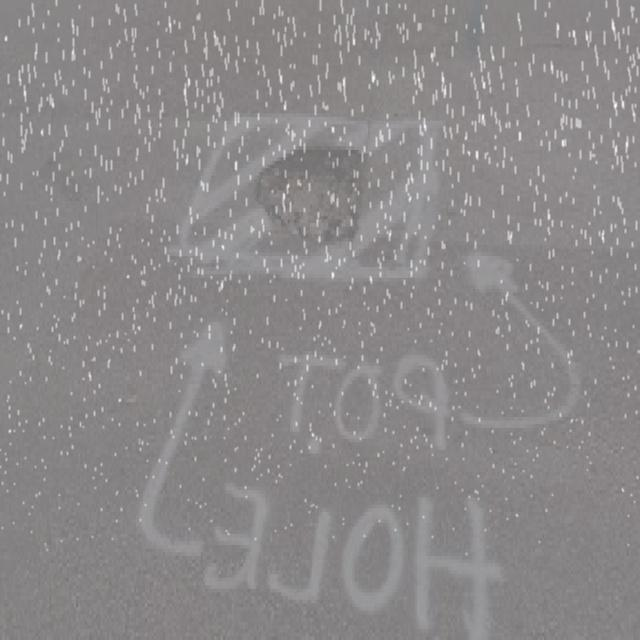Pothole: (250, 138, 376, 254)
